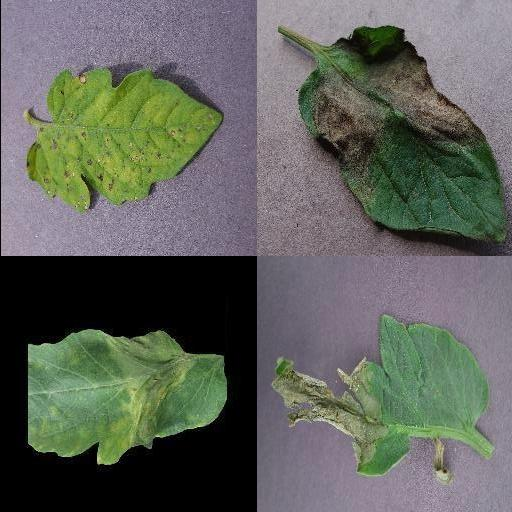Late Blight: (296, 25, 512, 244), (269, 311, 489, 485), (28, 326, 226, 466)
Septoria: (27, 68, 223, 210)
